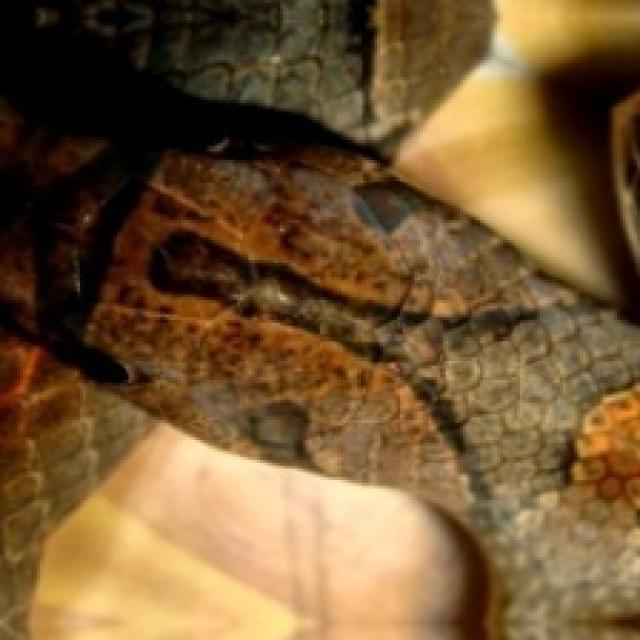northern short-headed snake: (0, 0, 637, 637)
